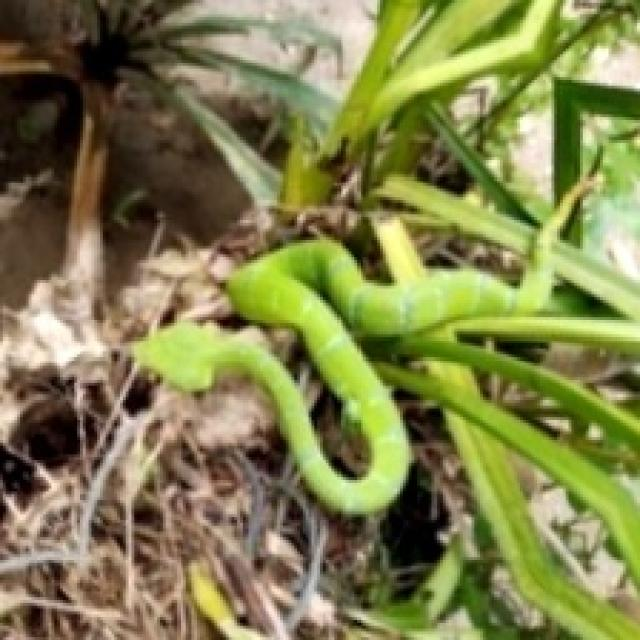north ph temple pitviper: (134, 183, 637, 637)
